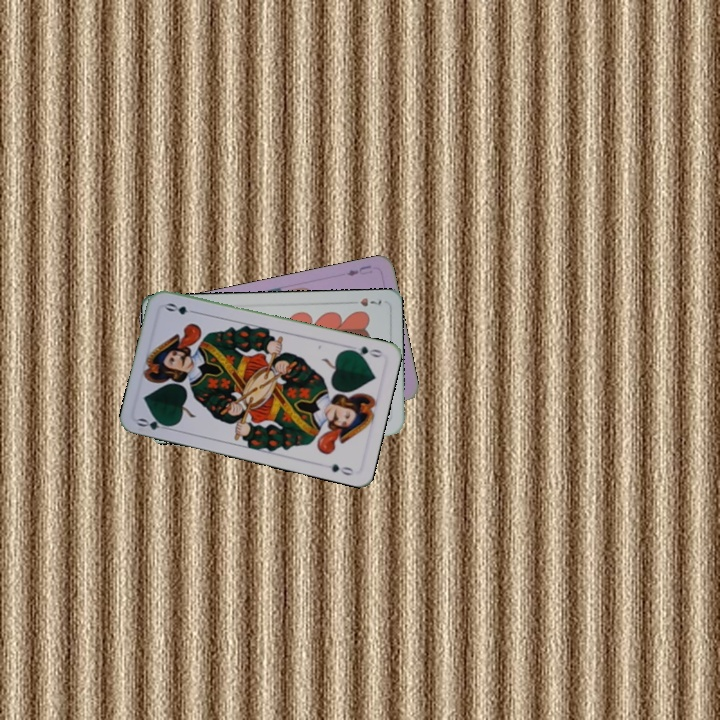EU: (342, 261, 375, 279)
GO: (133, 413, 175, 433), (345, 342, 385, 360)
H7: (345, 293, 384, 309)
